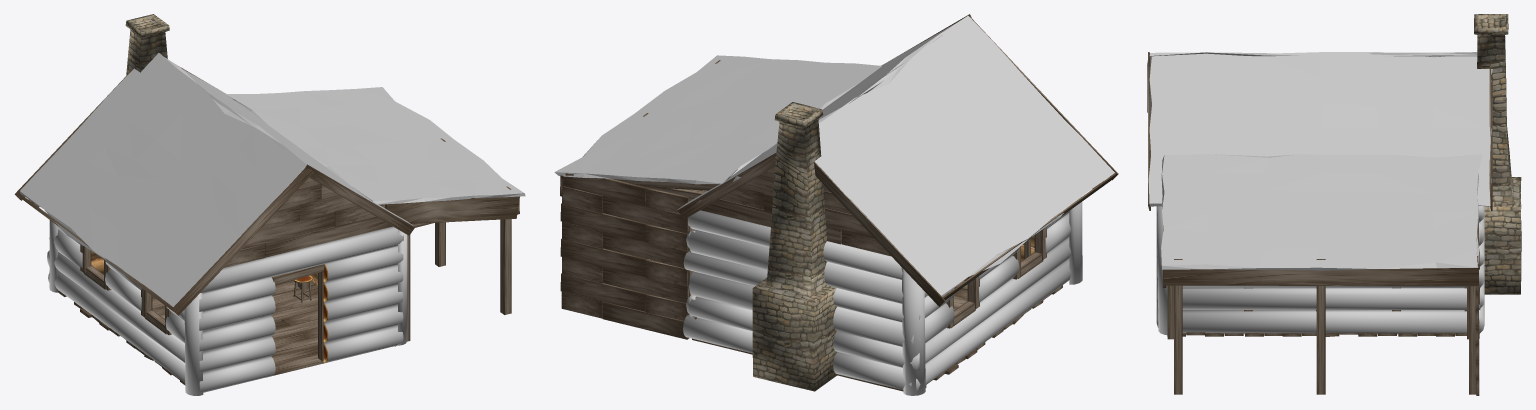
The model's file is LogCabin.dae.
3 views of the same model, side by side, from view 1: azimuth 30°, elevation 25°; view 2: azimuth 150°, elevation 25°; view 3: azimuth 270°, elevation 25° (orthographic). The views are drawn at different scales.
Parts seen in each view (by area): view 1: Roof, Log, Boards, Pillar, FirePlace; view 2: Roof, Log, Boards, FirePlace, Pillar; view 3: Roof, Log, Boards, FirePlace, Pillar.
Boxes of the visible parts, x1,y1,x2,y2 form: Roof: [20, 53, 525, 306]; Log: [47, 220, 407, 395]; Boards: [14, 67, 519, 385]; Pillar: [28, 99, 511, 360]; FirePlace: [125, 14, 169, 75]; Roof: [554, 15, 1114, 296]; Log: [683, 196, 1082, 395]; Boards: [560, 14, 1118, 391]; FirePlace: [752, 102, 837, 391]; Pillar: [565, 60, 1103, 338]; Roof: [1148, 52, 1492, 270]; Log: [1156, 206, 1484, 335]; Boards: [1147, 52, 1492, 395]; FirePlace: [1474, 14, 1521, 294]; Pillar: [1167, 256, 1477, 394].
Bounding box in the file's own units: 22.77 × 18.66 × 14.38.
